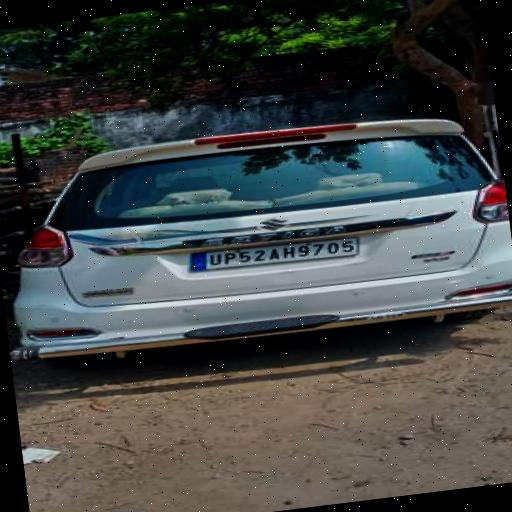license_plate`: (187, 229, 360, 276)
